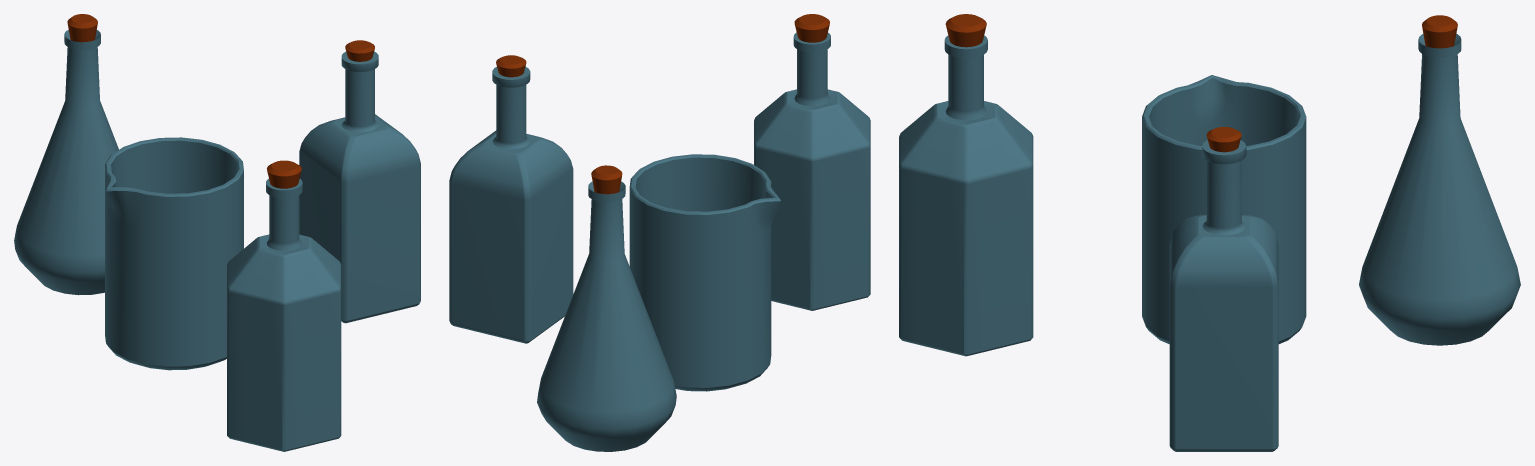
Rendered from BottlesED.fbx.
3 renders of one model, left to right at view 1: azimuth 30°, elevation 25°; view 2: azimuth 150°, elevation 25°; view 3: azimuth 270°, elevation 25°, orthographic. The views are drawn at different scales.
Parts seen in each view (by area): view 1: BeakerBottle, BloodBottle, WaterBottle, SulfurBottle, BloodCork, SulfurCork, WaterCork; view 2: BeakerBottle, WaterBottle, BloodBottle, SulfurBottle, BloodCork, SulfurCork, WaterCork; view 3: BloodBottle, WaterBottle, SulfurBottle, BeakerBottle, BloodCork, SulfurCork, WaterCork.
Boxes of the visible parts, x1,y1,x2,y2 form: BeakerBottle: (105, 137, 243, 370); BloodBottle: (227, 179, 341, 451); WaterBottle: (299, 51, 420, 323); SulfurBottle: (14, 30, 118, 295); BloodCork: (267, 160, 301, 188); SulfurCork: (67, 14, 97, 42); WaterCork: (345, 40, 374, 61); BeakerBottle: (629, 154, 780, 391); WaterBottle: (449, 66, 573, 343); BloodBottle: (754, 32, 870, 310); SulfurBottle: (537, 181, 676, 451); BloodCork: (794, 14, 829, 42); SulfurCork: (591, 165, 622, 194); WaterCork: (496, 55, 526, 77); BloodBottle: (899, 35, 1033, 356); WaterBottle: (1169, 140, 1278, 451); SulfurBottle: (1359, 33, 1520, 345); BeakerBottle: (1142, 75, 1306, 344); BloodCork: (945, 14, 986, 47); SulfurCork: (1422, 15, 1457, 48); WaterCork: (1206, 127, 1241, 152).
Size of the model in its own units: 38.89 by 32.19 by 59.51.
